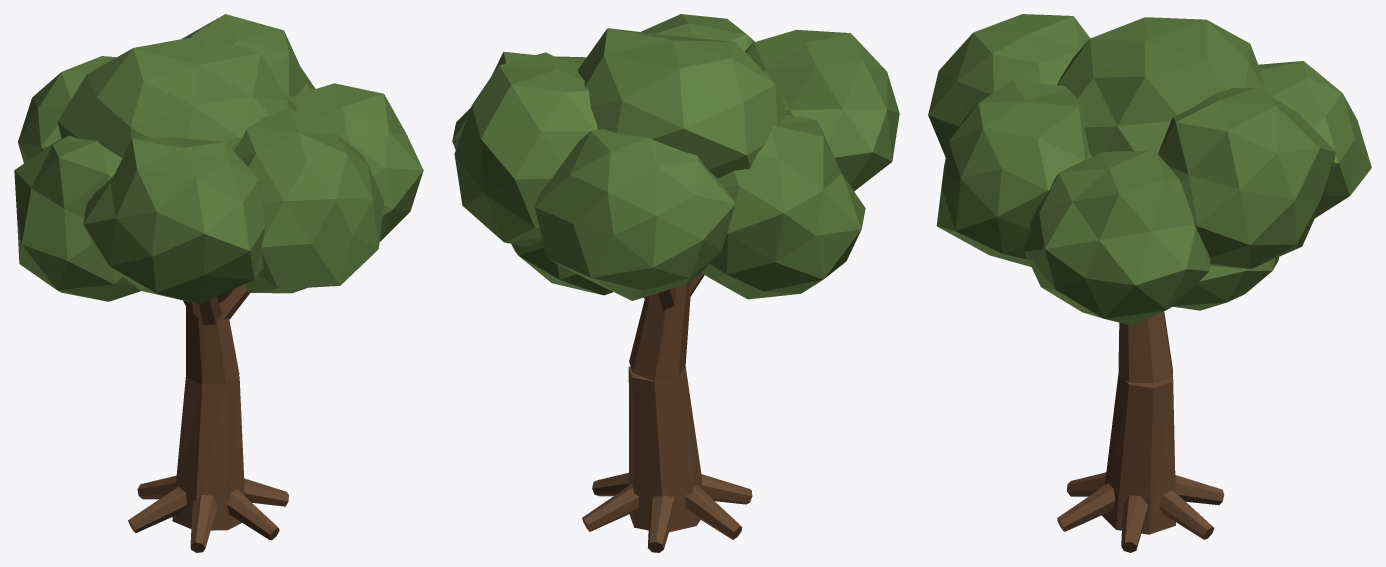
The model's file is oak.glb.
The picture shows the model from 3 angles, left to right: view 1: azimuth 30°, elevation 25°; view 2: azimuth 150°, elevation 25°; view 3: azimuth 270°, elevation 25°; orthographic projection. The views are drawn at different scales.
Parts seen in each view (by area): view 1: oak_tree; view 2: oak_tree; view 3: oak_tree.
Part boxes in pixels (bbox=[...]): oak_tree: bbox=[14, 14, 423, 552]; oak_tree: bbox=[452, 14, 899, 552]; oak_tree: bbox=[928, 14, 1371, 552].
Bounding box in the file's own units: 5.66 × 6.41 × 5.41.
